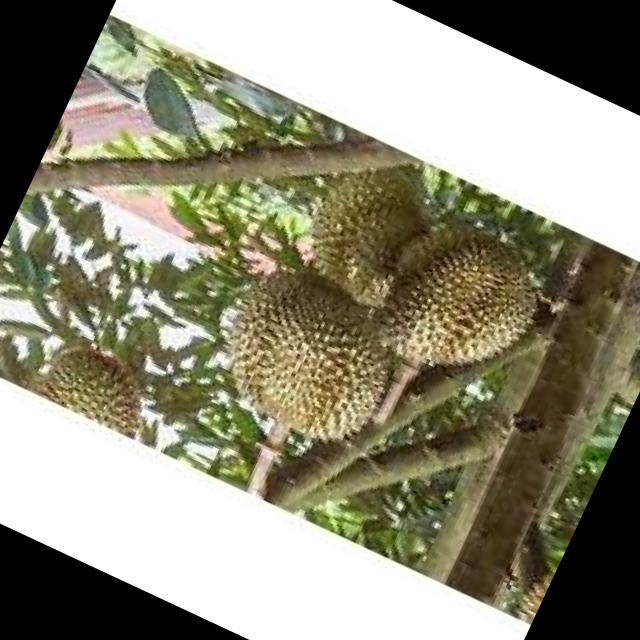fruit: (171, 225, 436, 486), (326, 181, 572, 422), (26, 318, 183, 448)
